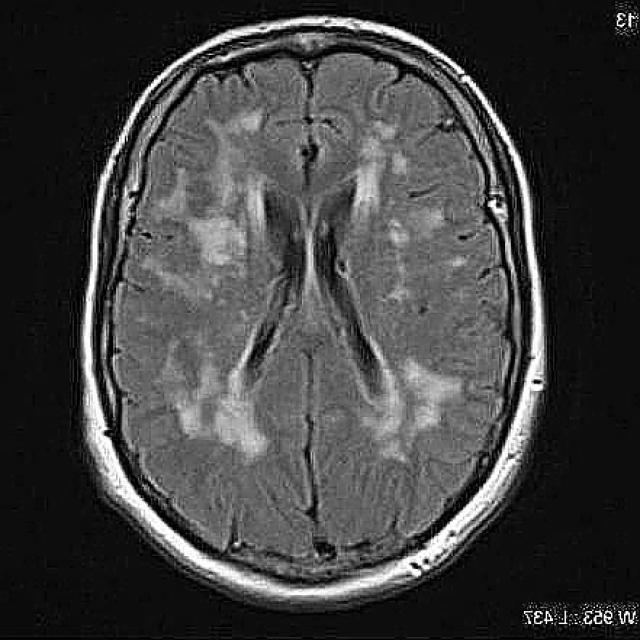notumor: (80, 19, 549, 614)
